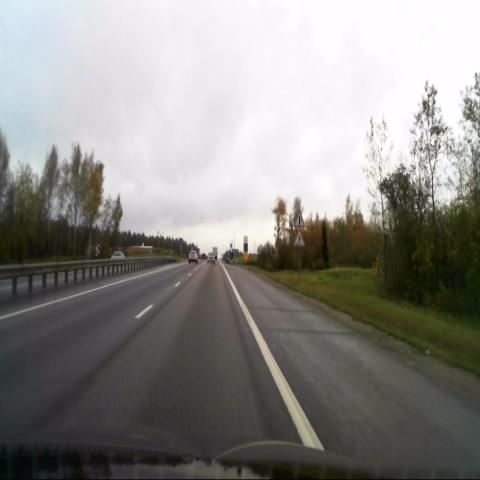1_22: (293, 229, 305, 247)
2_3_2: (294, 210, 305, 227)
